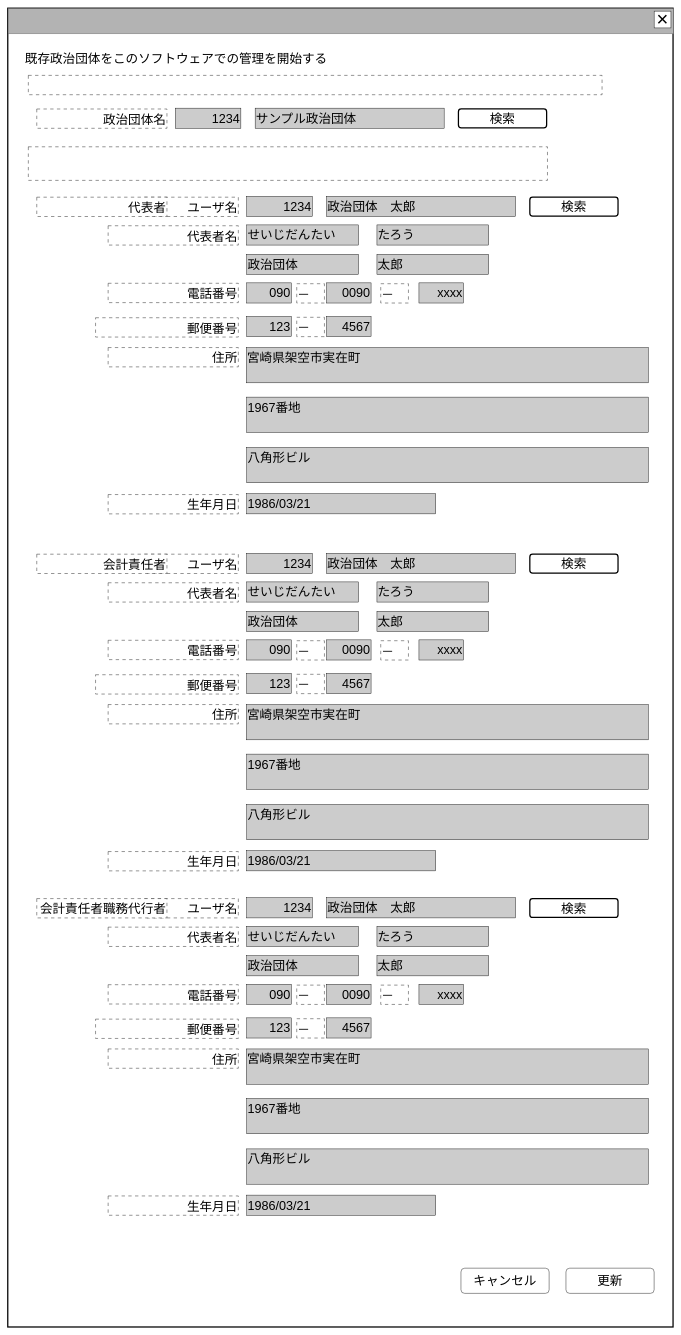
Some shapes in this 681 by 1335 pixel diagram are drawn without their labels. Here are the shapes that lost their labels. From the top down, the centre of each, then its label:
At point (315, 85): "まだ選挙管理委員会に設立の申請をしていない場合は 政治団体設立届を提出 してください".
At point (287, 163): "すでに選挙管理員会に１回以上収支報告書を提出してるが、 政治団体を探せない場合は 既存団体登録を依頼 してください".
